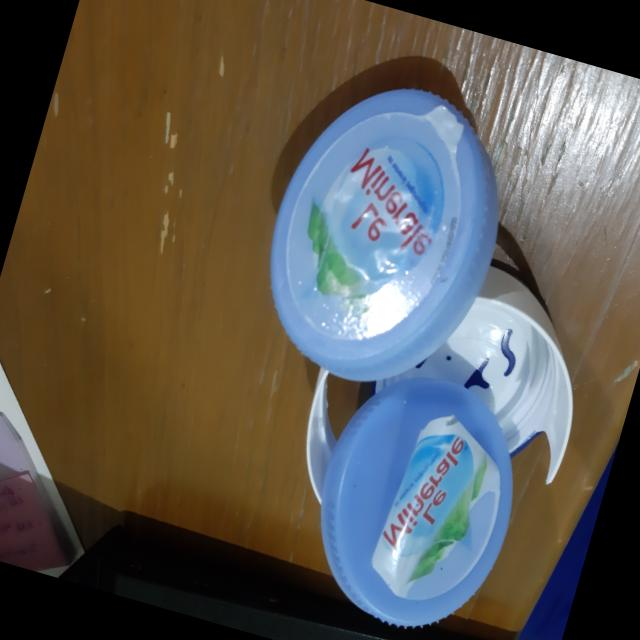TutupGalon: (192, 49, 636, 640)
